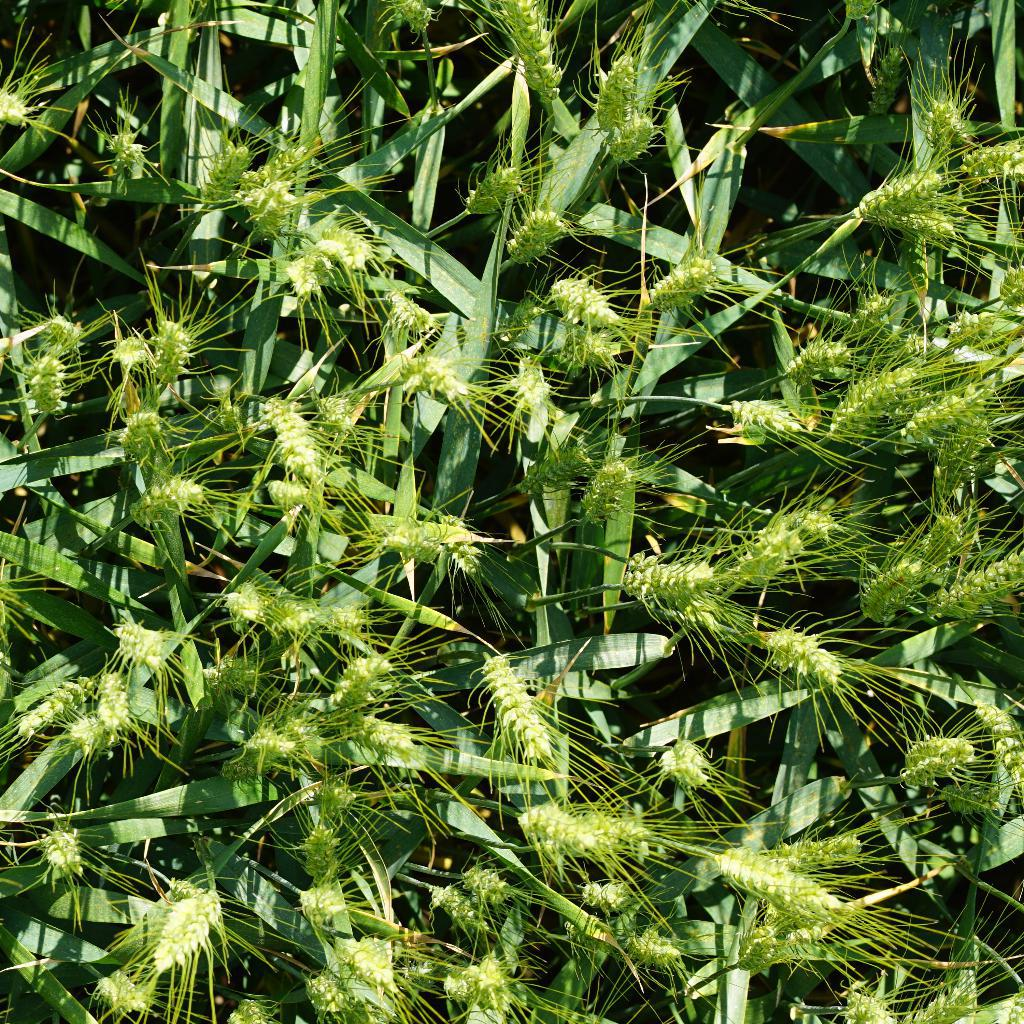0-0: (712, 834, 855, 927), (479, 650, 567, 761), (144, 882, 245, 972), (488, 0, 568, 112), (829, 351, 918, 449), (722, 511, 832, 589), (901, 378, 993, 460), (325, 699, 430, 769), (233, 129, 326, 207), (937, 537, 1021, 621), (922, 412, 997, 505), (92, 600, 178, 676), (516, 789, 608, 860), (616, 546, 718, 609), (2, 669, 92, 737), (265, 402, 336, 485), (729, 385, 822, 448), (967, 686, 1024, 787), (549, 269, 634, 336), (97, 109, 167, 190), (761, 626, 848, 691), (238, 174, 311, 251), (863, 548, 931, 628), (758, 821, 869, 870), (124, 468, 216, 527), (451, 150, 533, 216), (582, 440, 649, 520), (328, 647, 402, 717), (443, 949, 524, 1012), (890, 731, 978, 788), (189, 123, 245, 212), (896, 503, 970, 570), (494, 201, 575, 262), (847, 168, 952, 215), (422, 879, 499, 940), (777, 324, 859, 381), (654, 731, 727, 795), (150, 314, 215, 385), (392, 350, 474, 406), (512, 436, 594, 492), (645, 254, 728, 309), (913, 951, 975, 1024), (575, 791, 660, 843), (597, 52, 646, 141), (914, 82, 974, 154), (19, 347, 74, 425), (597, 108, 658, 178), (378, 514, 449, 574), (861, 39, 911, 123), (333, 934, 402, 993), (430, 506, 484, 580), (320, 216, 385, 276), (286, 590, 365, 639), (621, 922, 690, 978), (86, 661, 141, 731), (116, 402, 178, 464), (565, 322, 636, 376), (83, 959, 150, 1015), (284, 828, 352, 879), (504, 357, 563, 415), (886, 195, 965, 238), (98, 324, 156, 382), (25, 303, 85, 359), (195, 652, 263, 701), (934, 305, 1002, 354), (36, 817, 86, 882), (292, 875, 352, 929), (460, 859, 527, 907), (930, 779, 1006, 821), (262, 471, 316, 530), (773, 505, 847, 548), (964, 131, 1024, 184), (273, 246, 336, 295), (380, 288, 440, 339), (732, 919, 786, 975), (246, 714, 303, 766), (493, 292, 547, 346), (843, 289, 906, 334), (839, 985, 907, 1024), (320, 376, 366, 433), (0, 74, 40, 138), (308, 773, 359, 823), (578, 869, 632, 916), (64, 713, 113, 761), (307, 967, 352, 1017), (223, 579, 271, 624), (391, 0, 444, 31), (212, 398, 245, 439), (0, 1008, 23, 1024)
